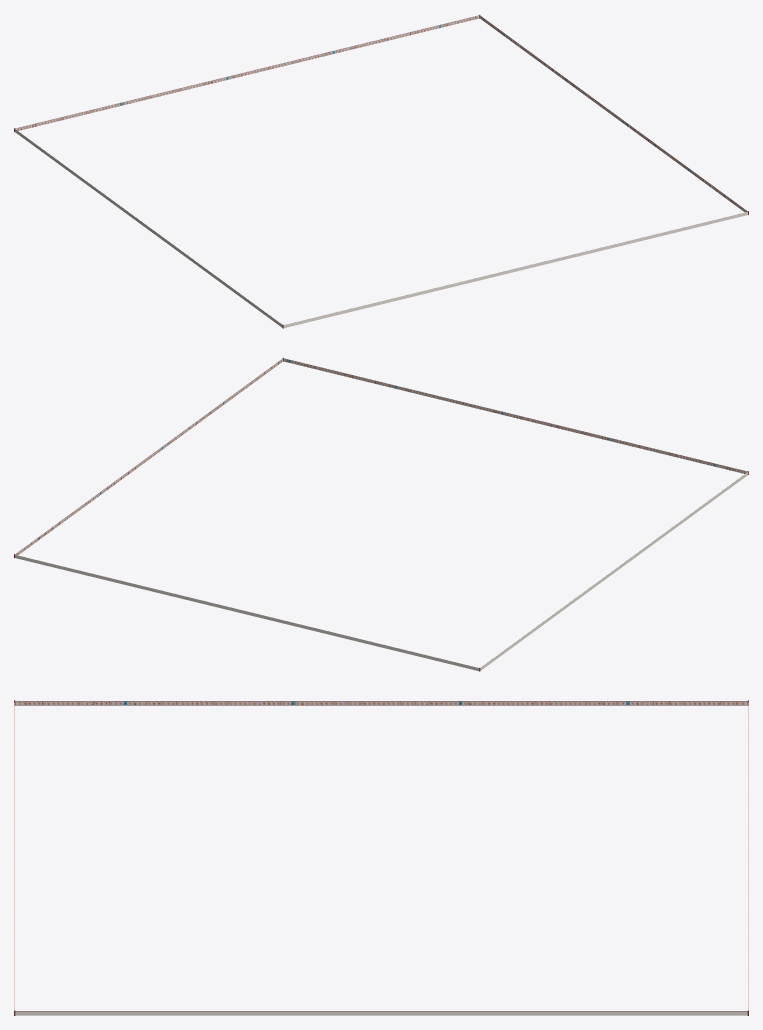
File: photo_borders.glb
3 views of the same model, one above another, from view 1: azimuth 30°, elevation 25°; view 2: azimuth 150°, elevation 25°; view 3: azimuth 270°, elevation 25° (orthographic). The views are drawn at different scales.
Visible parts, largest first — view 1: SouthBorder_Board, NorthBorder_Board, WestBorder_Board, EastBorder_Board; view 2: NorthBorder_Board, SouthBorder_Board, WestBorder_Board, EastBorder_Board; view 3: EastBorder_Board, WestBorder_Board, WestBorder_BaseTrim, WestBorder_TopTrim, EastBorder_TopTrim.
Part boxes in pixels (<box>): SouthBorder_Board: <box>283,212,747,327</box>; NorthBorder_Board: <box>15,15,479,130</box>; WestBorder_Board: <box>14,129,282,327</box>; EastBorder_Board: <box>480,15,747,211</box>; NorthBorder_Board: <box>15,555,479,670</box>; SouthBorder_Board: <box>283,358,747,473</box>; WestBorder_Board: <box>480,472,748,670</box>; EastBorder_Board: <box>15,358,282,554</box>; EastBorder_Board: <box>15,1011,747,1015</box>; WestBorder_Board: <box>15,701,747,705</box>; WestBorder_BaseTrim: <box>15,705,747,705</box>; WestBorder_TopTrim: <box>15,701,747,701</box>; EastBorder_TopTrim: <box>15,1011,747,1011</box>.
Bounding box in the file's own units: 220 × 1.74 × 220.
39 materials, 35 textured.
